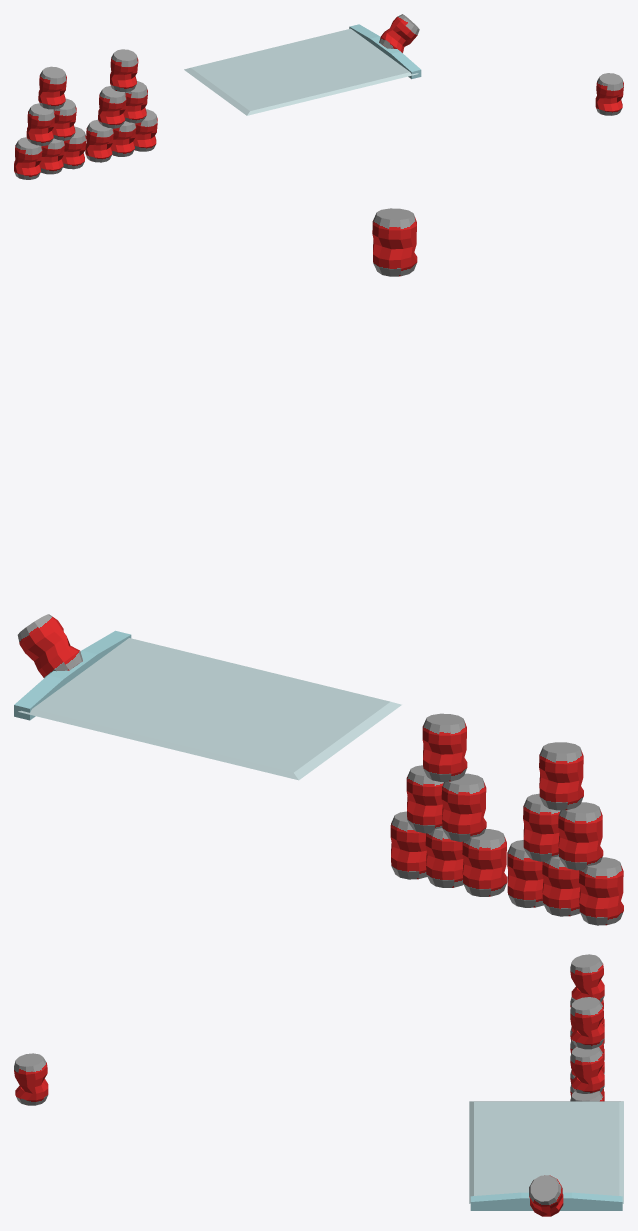
The model's file is trash3.gltf.
The picture shows the model from 3 angles, top to bottom: view 1: azimuth 30°, elevation 25°; view 2: azimuth 150°, elevation 25°; view 3: azimuth 270°, elevation 25°; orthographic projection. The views are drawn at different scales.
Visible parts, largest first — view 1: cylinder-col (×14), plane, Trash_not_very_clear; view 2: cylinder-col (×14), plane, Trash_not_very_clear; view 3: plane, cylinder-col (×5), Trash_not_very_clear.
Part boxes in pixels (x1,y1,x2,y2): cylinder-col (×14): [14, 14, 623, 179]; plane: [184, 28, 418, 115]; Trash_not_very_clear: [349, 24, 421, 79]; cylinder-col (×14): [17, 208, 623, 925]; plane: [18, 638, 401, 780]; Trash_not_very_clear: [14, 630, 131, 720]; plane: [469, 1101, 623, 1203]; cylinder-col (×5): [14, 954, 604, 1216]; Trash_not_very_clear: [470, 1192, 622, 1210].
Bounding box in the file's own units: 0.6146 × 0.2729 × 0.6905.
Materials: 1 (1 with a texture image).
